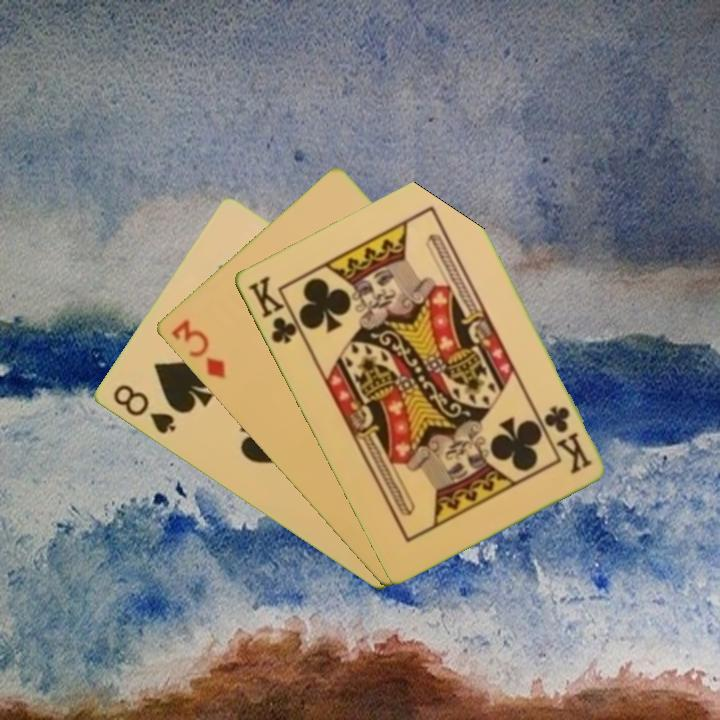3d: (166, 315, 228, 382)
8s: (109, 380, 179, 437)
Kc: (244, 272, 306, 347), (540, 402, 594, 477)
